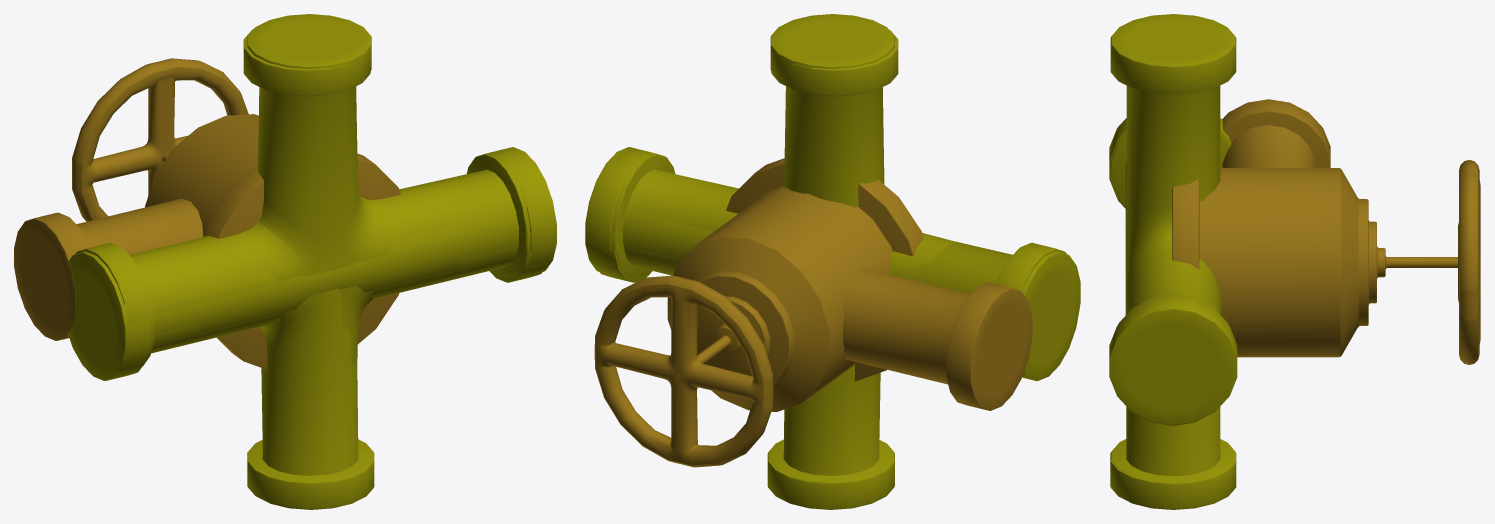
The model's file is Pipe Puzzle_P2 Pipe Modulars_01.FBX.
The picture shows the model from 3 angles, left to right: view 1: azimuth 30°, elevation 25°; view 2: azimuth 150°, elevation 25°; view 3: azimuth 270°, elevation 25°; orthographic projection.
Visible parts, largest first — view 1: pipe modular 004, valve part 1 modular 001, pipe modular 003, pipe modular 002, pipe modular 001; view 2: valve part 1 modular 001, pipe modular 004, pipe modular 003, pipe modular 002, pipe modular 001; view 3: valve part 1 modular 001, pipe modular 004, pipe modular 001, pipe modular 002, pipe modular 003.
Boxes of the visible parts, x1,y1,x2,y2 form: pipe modular 004: (143, 14, 530, 508); valve part 1 modular 001: (14, 58, 400, 369); pipe modular 003: (68, 29, 548, 380); pipe modular 002: (75, 242, 374, 509); pipe modular 001: (69, 147, 556, 365); valve part 1 modular 001: (594, 158, 1032, 467); pipe modular 004: (611, 14, 998, 508); pipe modular 003: (593, 30, 1079, 380); pipe modular 002: (767, 241, 1066, 509); pipe modular 001: (585, 147, 1080, 305); valve part 1 modular 001: (1172, 99, 1480, 364); pipe modular 004: (1111, 14, 1235, 481); pipe modular 001: (1109, 128, 1237, 425); pipe modular 002: (1110, 118, 1236, 509); pipe modular 003: (1110, 36, 1236, 425).
Bounding box in the file's own units: 24.05 × 23.55 × 17.9.
